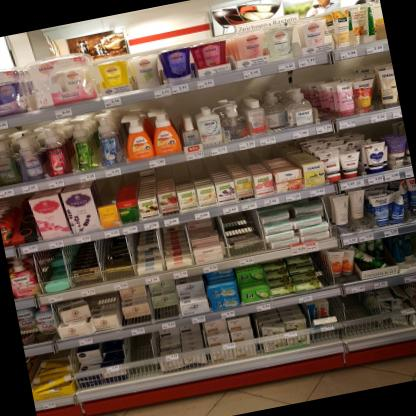empty_space: (126, 334, 155, 380), (341, 296, 370, 338)
